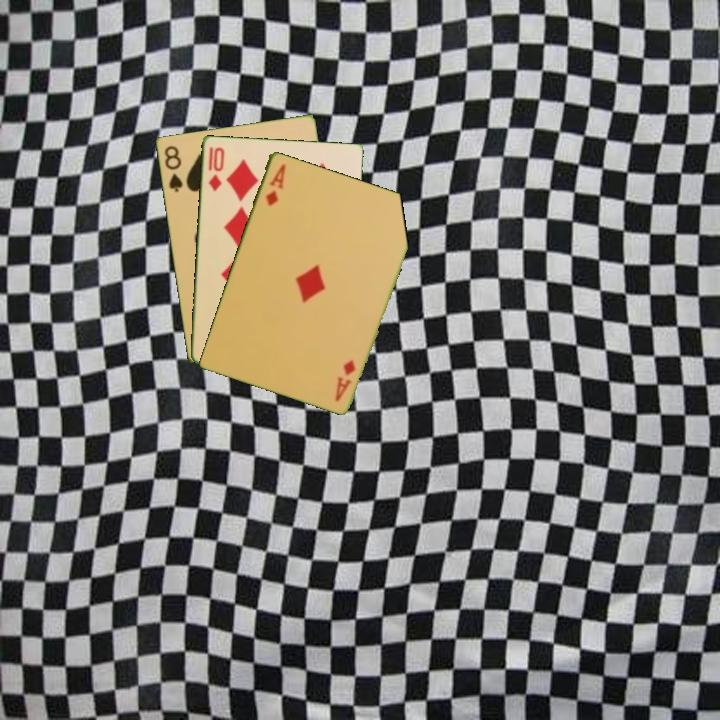10d: (204, 143, 227, 194)
8s: (161, 142, 185, 194)
Ad: (331, 355, 358, 404), (262, 160, 288, 209)
